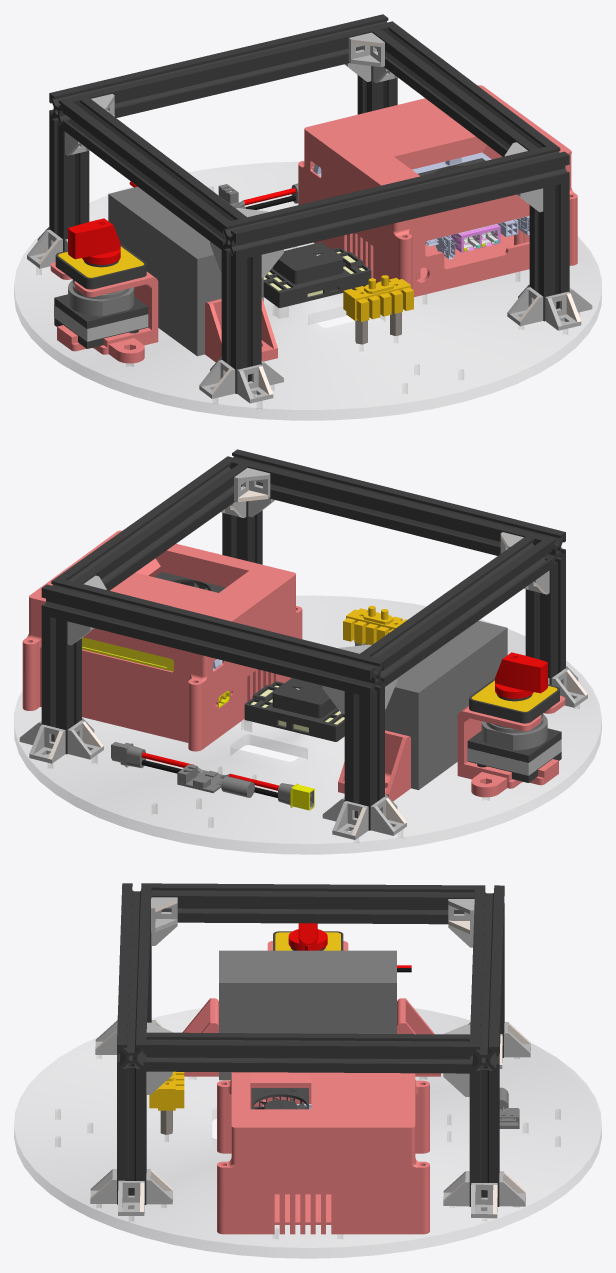
3 views of the same model, one above another, from view 1: azimuth 30°, elevation 25°; view 2: azimuth 150°, elevation 25°; view 3: azimuth 270°, elevation 25° (orthographic).
Parts seen in each view (by area): view 1: alpha3_electronics_plate-1 - Part_clonedChild, alpha3_electronics_plate-1 - Part, jetson_housing_top_V2-1 - Part, RS_850-8476_260mm-2 - Part, RS_850-8476_260mm-1 - Part, battery_foxtech-1 - Part, jetson_housing_bot-1 - Part, RS_850-8476_220mm-1 - Part, RS_850-8476_220mm-3 - Part, PIXHAWK 6X MINI-1 - Part, RS_850-8476-1 4 - Part, RS_850-8476-1 3 - Part (+19 smaller); view 2: alpha3_electronics_plate-1 - Part_clonedChild, alpha3_electronics_plate-1 - Part, RS_850-8476_260mm-1 - Part, jetson_housing_top_V2-1 - Part, jetson_housing_bot-1 - Part, RS_850-8476_260mm-2 - Part, battery_foxtech-1 - Part, RS_850-8476_220mm-1 - Part, RS_850-8476_220mm-3 - Part, RS_850-8476-1 2 - Part, RS_850-8476-1 - Part, PIXHAWK 6X MINI-1 - Part (+20 smaller); view 3: alpha3_electronics_plate-1 - Part_clonedChild, alpha3_electronics_plate-1 - Part, jetson_housing_top_V2-1 - Part, jetson_housing_bot-1 - Part, battery_foxtech-1 - Part, RS_850-8476_220mm-3 - Part, RS_850-8476_220mm-1 - Part, RS_850-8476_260mm-1 - Part, RS_850-8476_260mm-2 - Part, RS_850-8476-1 - Part, RS_850-8476-1 3 - Part, tarot_distributor-1 2 - Part (+16 smaller).
Boxes of the visible parts, bbox=[...] form: alpha3_electronics_plate-1 - Part_clonedChild: bbox=[14, 162, 601, 420]; alpha3_electronics_plate-1 - Part: bbox=[14, 162, 601, 419]; jetson_housing_top_V2-1 - Part: bbox=[298, 85, 577, 246]; RS_850-8476_260mm-2 - Part: bbox=[221, 144, 569, 260]; RS_850-8476_260mm-1 - Part: bbox=[49, 14, 396, 129]; battery_foxtech-1 - Part: bbox=[108, 186, 263, 356]; jetson_housing_bot-1 - Part: bbox=[298, 166, 577, 297]; RS_850-8476_220mm-1 - Part: bbox=[63, 98, 246, 249]; RS_850-8476_220mm-3 - Part: bbox=[372, 25, 554, 156]; PIXHAWK 6X MINI-1 - Part: bbox=[263, 242, 371, 307]; RS_850-8476-1 4 - Part: bbox=[221, 250, 261, 393]; RS_850-8476-1 3 - Part: bbox=[529, 182, 569, 321]; alpha3_electronics_plate-1 - Part_clonedChild: bbox=[14, 595, 601, 854]; alpha3_electronics_plate-1 - Part: bbox=[14, 596, 601, 853]; RS_850-8476_260mm-1 - Part: bbox=[41, 577, 384, 697]; jetson_housing_top_V2-1 - Part: bbox=[22, 530, 302, 691]; jetson_housing_bot-1 - Part: bbox=[22, 616, 302, 751]; RS_850-8476_260mm-2 - Part: bbox=[223, 449, 565, 568]; battery_foxtech-1 - Part: bbox=[385, 620, 507, 790]; RS_850-8476_220mm-1 - Part: bbox=[360, 536, 550, 686]; RS_850-8476_220mm-3 - Part: bbox=[57, 460, 247, 590]; RS_850-8476-1 2 - Part: bbox=[344, 687, 384, 830]; RS_850-8476-1 - Part: bbox=[41, 615, 81, 754]; PIXHAWK 6X MINI-1 - Part: bbox=[244, 678, 344, 741]; alpha3_electronics_plate-1 - Part_clonedChild: bbox=[14, 1008, 601, 1258]; alpha3_electronics_plate-1 - Part: bbox=[14, 1009, 601, 1257]; jetson_housing_top_V2-1 - Part: bbox=[217, 1072, 429, 1174]; jetson_housing_bot-1 - Part: bbox=[217, 1083, 429, 1234]; battery_foxtech-1 - Part: bbox=[219, 950, 396, 1080]; RS_850-8476_220mm-3 - Part: bbox=[146, 1032, 469, 1073]; RS_850-8476_220mm-1 - Part: bbox=[151, 883, 474, 924]; RS_850-8476_260mm-1 - Part: bbox=[469, 885, 504, 1073]; RS_850-8476_260mm-2 - Part: bbox=[117, 883, 151, 1071]; RS_850-8476-1 - Part: bbox=[469, 1064, 499, 1206]; RS_850-8476-1 3 - Part: bbox=[117, 1063, 146, 1204]; tarot_distributor-1 2 - Part: bbox=[149, 1071, 184, 1110].
Bounding box in the file's own units: 0.4 × 0.128 × 0.3998.
